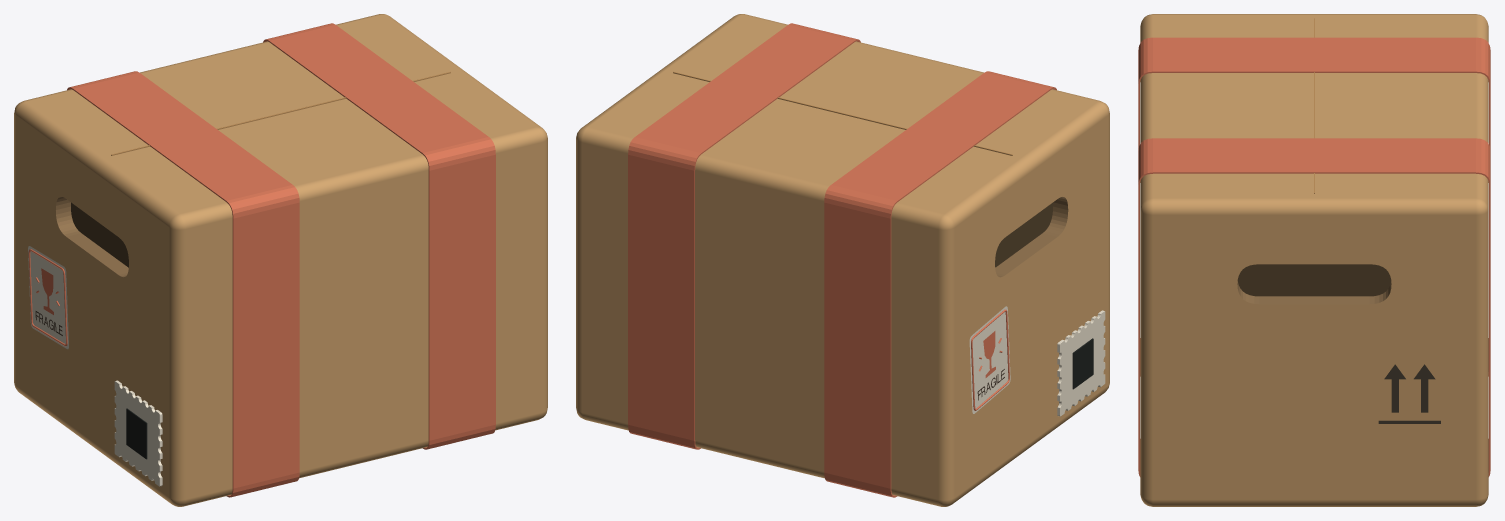
File: play-parcel-large-coral.glb
3 views of the same model, side by side, from view 1: azimuth 30°, elevation 25°; view 2: azimuth 150°, elevation 25°; view 3: azimuth 270°, elevation 25° (orthographic). The views are drawn at different scales.
Visible parts, largest first — view 1: Parcel_Carton, Parcel_Tape_Parallel_1, Parcel_Tape_Parallel_2, Parcel_Paper_Label, Parcel_Care_Fragile_Paper, Parcel_Carry_Slot_Walls_Negative_X, Parcel_Carry_Slot_Interior_Negative_X, Parcel_Label_Square; view 2: Parcel_Carton, Parcel_Tape_Parallel_1, Parcel_Tape_Parallel_2, Parcel_Paper_Label, Parcel_Care_Fragile_Paper, Parcel_Carry_Slot_Walls_Negative_X, Parcel_Carry_Slot_Interior_Negative_X, Parcel_Label_Square; view 3: Parcel_Carton, Parcel_Tape_Parallel_2, Parcel_Tape_Parallel_1, Parcel_Carry_Slot_Interior_Positive_X, Parcel_Carry_Slot_Walls_Positive_X, Parcel_Up_Arrows_Positive_X.
Boxes of the visible parts, x1=… form: Parcel_Carton: x1=14, y1=14, x2=547, y2=506; Parcel_Tape_Parallel_1: x1=67, y1=71, x2=299, y2=497; Parcel_Tape_Parallel_2: x1=263, y1=23, x2=495, y2=449; Parcel_Paper_Label: x1=114, y1=380, x2=162, y2=486; Parcel_Care_Fragile_Paper: x1=28, y1=246, x2=68, y2=349; Parcel_Carry_Slot_Walls_Negative_X: x1=56, y1=196, x2=128, y2=277; Parcel_Carry_Slot_Interior_Negative_X: x1=71, y1=202, x2=128, y2=267; Parcel_Label_Square: x1=126, y1=408, x2=147, y2=459; Parcel_Carton: x1=576, y1=14, x2=1109, y2=506; Parcel_Tape_Parallel_1: x1=824, y1=71, x2=1056, y2=497; Parcel_Tape_Parallel_2: x1=628, y1=23, x2=860, y2=449; Parcel_Paper_Label: x1=1057, y1=310, x2=1105, y2=416; Parcel_Care_Fragile_Paper: x1=969, y1=306, x2=1010, y2=413; Parcel_Carry_Slot_Walls_Negative_X: x1=995, y1=197, x2=1068, y2=277; Parcel_Carry_Slot_Interior_Negative_X: x1=995, y1=202, x2=1052, y2=267; Parcel_Label_Square: x1=1072, y1=338, x2=1093, y2=389; Parcel_Carton: x1=1140, y1=14, x2=1488, y2=506; Parcel_Tape_Parallel_2: x1=1138, y1=138, x2=1490, y2=476; Parcel_Tape_Parallel_1: x1=1138, y1=37, x2=1490, y2=376; Parcel_Carry_Slot_Interior_Positive_X: x1=1237, y1=264, x2=1391, y2=296; Parcel_Carry_Slot_Walls_Positive_X: x1=1237, y1=281, x2=1391, y2=304; Parcel_Up_Arrows_Positive_X: x1=1378, y1=364, x2=1440, y2=423.
Bounding box in the file's own units: 0.253 × 0.187 × 0.192.
